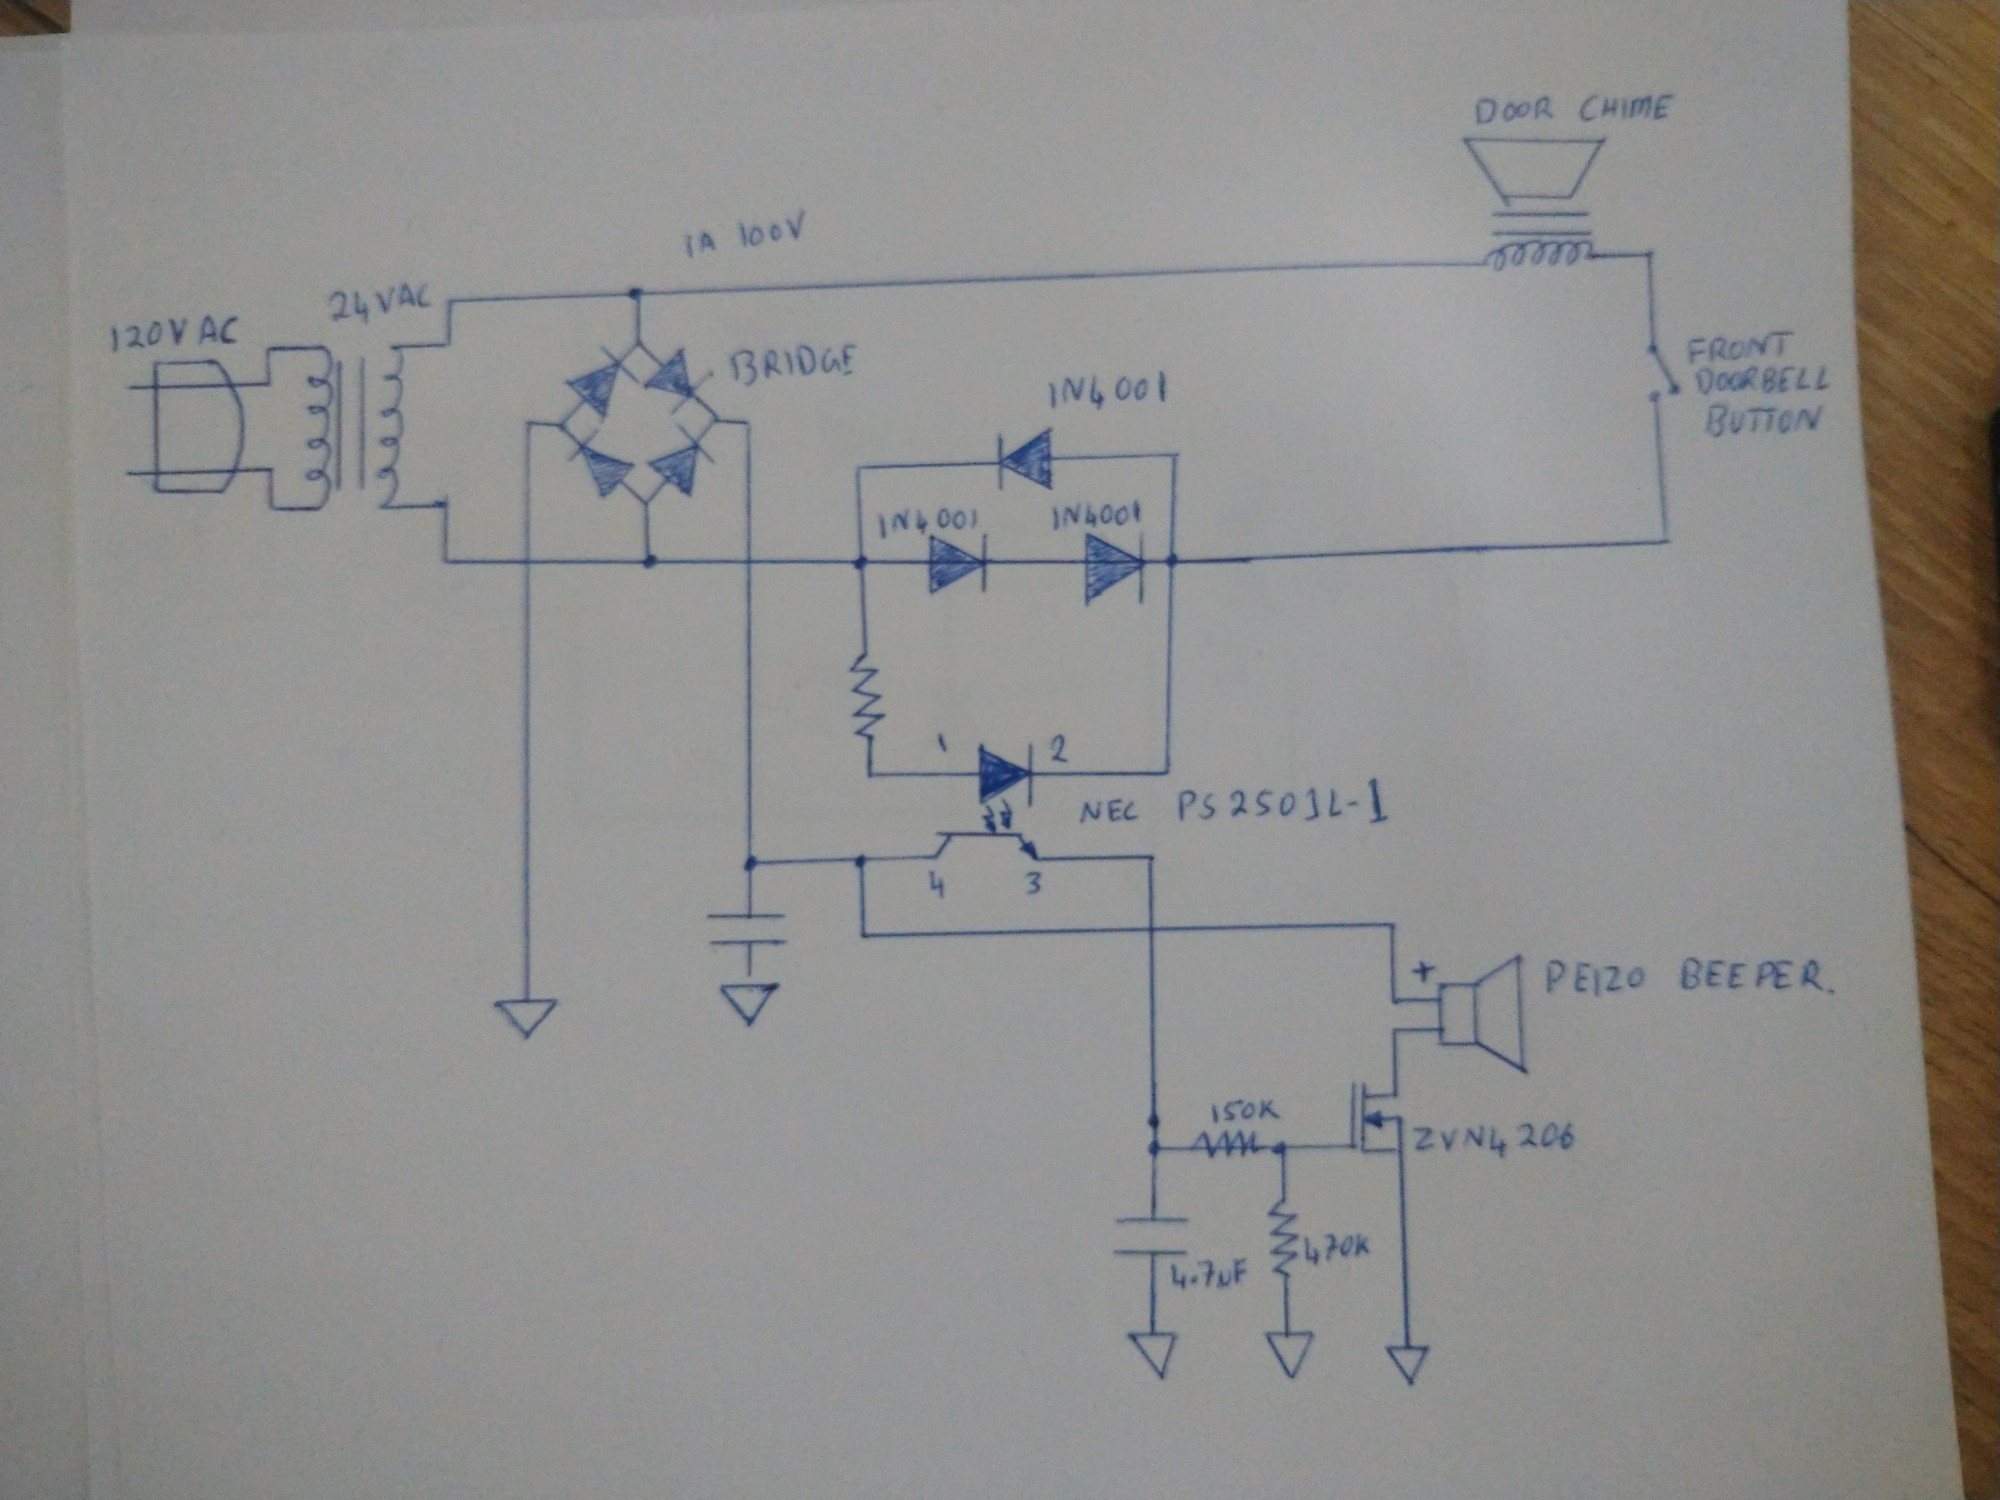capacitor.unpolarized: (1112, 1212, 1194, 1261), (702, 908, 789, 952)
crossover: (739, 551, 761, 572), (518, 551, 539, 574), (1142, 917, 1162, 937)
diode: (1080, 529, 1151, 610), (564, 343, 636, 421), (647, 425, 715, 499), (643, 347, 713, 414), (926, 533, 994, 599), (570, 432, 635, 499), (995, 429, 1057, 495)
gnd: (718, 978, 784, 1030), (491, 996, 561, 1041), (1128, 1328, 1184, 1383), (1261, 1327, 1318, 1382), (1384, 1342, 1431, 1388)
junction: (1142, 1138, 1165, 1161), (639, 551, 661, 577), (1268, 1139, 1294, 1160), (739, 854, 762, 874), (1381, 917, 1405, 936), (436, 492, 457, 512), (627, 284, 647, 304), (1161, 551, 1183, 570), (852, 551, 871, 574), (553, 414, 572, 436), (520, 416, 539, 435), (1164, 449, 1184, 466), (850, 852, 869, 870), (850, 460, 869, 477), (439, 551, 457, 570), (261, 462, 279, 481), (1658, 529, 1676, 548), (628, 334, 647, 351), (260, 370, 276, 391), (739, 414, 756, 432), (261, 340, 279, 358), (1387, 991, 1405, 1008), (1643, 244, 1658, 263), (861, 766, 879, 782), (265, 498, 280, 515), (1387, 1023, 1405, 1038), (639, 493, 655, 509), (709, 411, 724, 427), (1142, 852, 1159, 867), (1159, 766, 1176, 780), (857, 928, 872, 942), (439, 336, 454, 351), (443, 295, 457, 307)
optocoupler: (932, 741, 1043, 865)
resistor: (847, 651, 890, 741), (1268, 1197, 1301, 1278), (1191, 1131, 1263, 1160)
socket: (151, 359, 246, 496)
speaker: (1455, 126, 1613, 277), (1435, 953, 1531, 1078)
switch: (1641, 342, 1683, 405)
terminal: (118, 463, 143, 485), (118, 378, 145, 399)
text: (1076, 777, 1392, 829), (1543, 956, 1841, 997), (724, 343, 869, 392), (682, 208, 809, 262), (1476, 93, 1676, 124), (1414, 1122, 1578, 1160), (107, 314, 243, 356), (1044, 370, 1172, 411), (1693, 364, 1830, 399), (328, 280, 435, 323), (1701, 403, 1822, 440), (1685, 332, 1795, 366), (874, 507, 984, 540), (1049, 499, 1143, 531), (1165, 1256, 1247, 1290), (1302, 1232, 1373, 1265), (1205, 1097, 1280, 1127), (924, 868, 953, 901), (1046, 733, 1072, 766), (1020, 868, 1046, 898), (931, 730, 954, 759)
transformer: (302, 339, 411, 518)
transistor: (1343, 1078, 1409, 1161)
